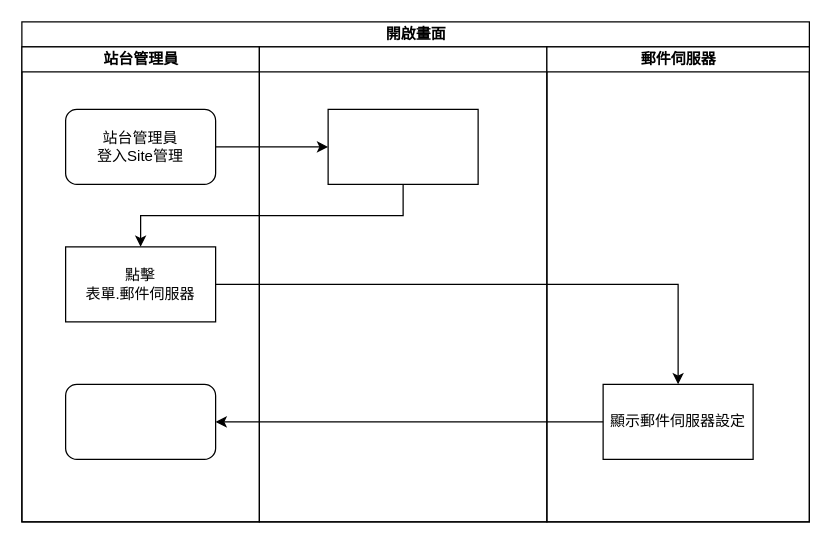
The diagram is 831 pixels wide and 544 high, and some of its shapes have lost their labels. The shapes that lost their labels are listed below. From the top down, each one's box as (x1, y1, x2, y2) in pixels, then its label:
(327, 108, 478, 184): 進入首頁 顯示左方表單清單
(258, 46, 547, 522): Site管理首頁
(64, 383, 216, 459): 結束執行
